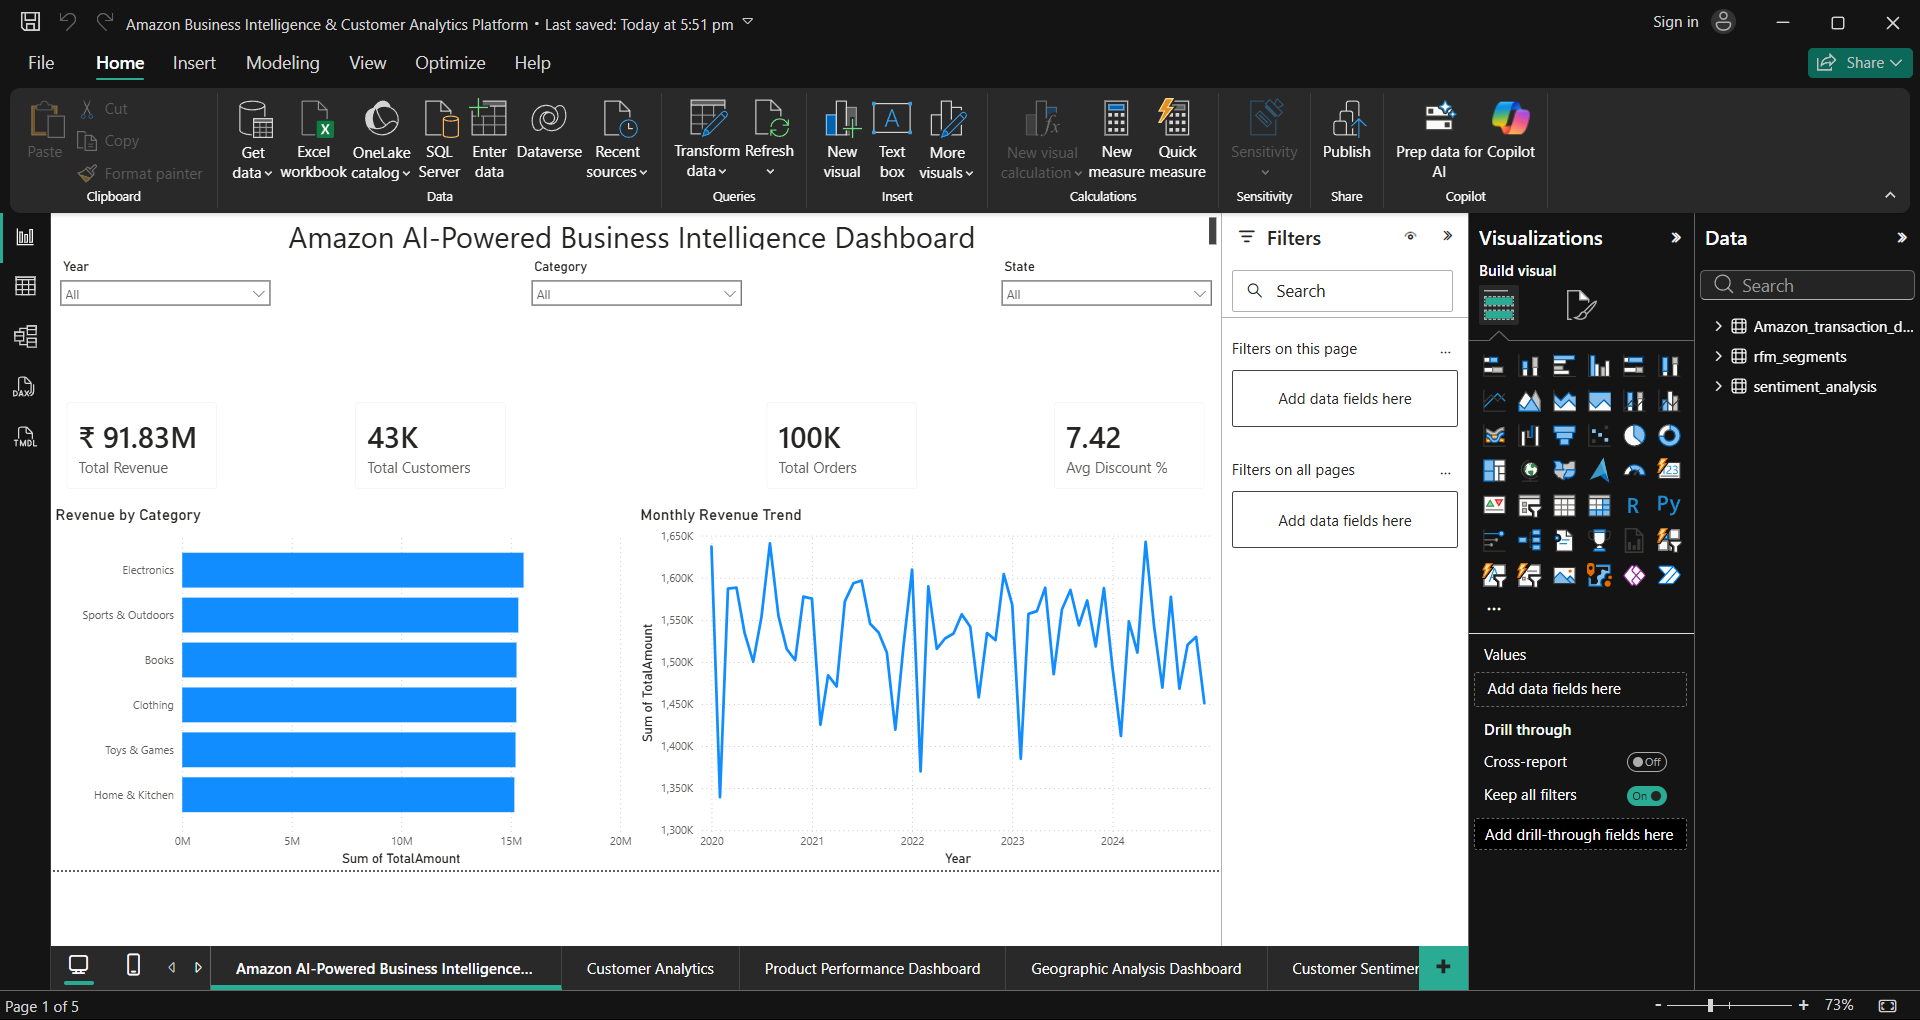

This screenshot's page, from the dashboard's own definition file:
{"tool":"powerbi","page":{"name":"Amazon AI-Powered Business Intelligence Dashboard","canvas":[1280,720],"ordinal":0},"visuals":[{"type":"cardVisual","title":"Total Revenue","fields":{"Data":["Sum(Amazon_transaction_data.TotalAmount)"]},"box":[0,190.1,199,129.9],"z":0},{"type":"cardVisual","fields":{"Data":["Amazon_transaction_data.Total Orders"]},"box":[766,190.1,199.7,129.9],"z":1000},{"type":"cardVisual","fields":{"Data":["Amazon_transaction_data.Total Customers"]},"box":[316,190.1,199.7,129.9],"z":2000},{"type":"cardVisual","title":"Average Discount","fields":{"Data":["Amazon_transaction_data.Avg Discount %"]},"box":[1080.6,190.1,199.7,129.9],"z":3000},{"type":"clusteredBarChart","title":"Revenue by Category","fields":{"Category":["Amazon_transaction_data.Category"],"Y":["Sum(Amazon_transaction_data.TotalAmount)"]},"box":[0,320.1,640.1,399.4],"z":4000},{"type":"lineChart","title":"Monthly Revenue Trend","fields":{"Y":["Sum(Amazon_transaction_data.TotalAmount)"],"Category":["Amazon_transaction_data.OrderDate.Variation.Date Hierarchy.Year","Amazon_transaction_data.OrderDate.Variation.Date Hierarchy.Month"]},"box":[640.1,320.1,640.1,399.4],"z":5000},{"type":"textbox","box":[0,0,1280.3,45],"z":6000},{"type":"slicer","fields":{"Values":["Amazon_transaction_data.OrderDate.Variation.Date Hierarchy.Year"]},"box":[0,45.1,250,80],"z":7000},{"type":"slicer","fields":{"Values":["Amazon_transaction_data.Category"]},"box":[515.7,45.1,250,80],"z":8000},{"type":"slicer","fields":{"Values":["Amazon_transaction_data.State"]},"box":[1030,45.1,250,80],"z":9000}]}

Visuals, with their boxes on the page's 1280x720 design canvas (x1, y1, x2, y2). These are canvas units, not pixel positions in the 1920x1020 screenshot, which may show the page scaled, cropped or inside an application window:
"Total Revenue" cardVisual: {"left": 0, "top": 190, "right": 199, "bottom": 320}
cardVisual - Amazon_transaction_data.Total Orders: {"left": 766, "top": 190, "right": 966, "bottom": 320}
cardVisual - Amazon_transaction_data.Total Customers: {"left": 316, "top": 190, "right": 516, "bottom": 320}
"Average Discount" cardVisual: {"left": 1081, "top": 190, "right": 1280, "bottom": 320}
"Revenue by Category" clusteredBarChart: {"left": 0, "top": 320, "right": 640, "bottom": 720}
"Monthly Revenue Trend" lineChart: {"left": 640, "top": 320, "right": 1280, "bottom": 720}
textbox: {"left": 0, "top": 0, "right": 1280, "bottom": 45}
slicer - Amazon_transaction_data.OrderDate.Variation.Date Hierarchy.Year: {"left": 0, "top": 45, "right": 250, "bottom": 125}
slicer - Amazon_transaction_data.Category: {"left": 516, "top": 45, "right": 766, "bottom": 125}
slicer - Amazon_transaction_data.State: {"left": 1030, "top": 45, "right": 1280, "bottom": 125}
